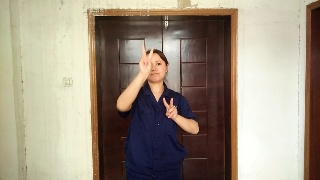hand: (139, 43, 153, 76), (162, 97, 177, 120)
